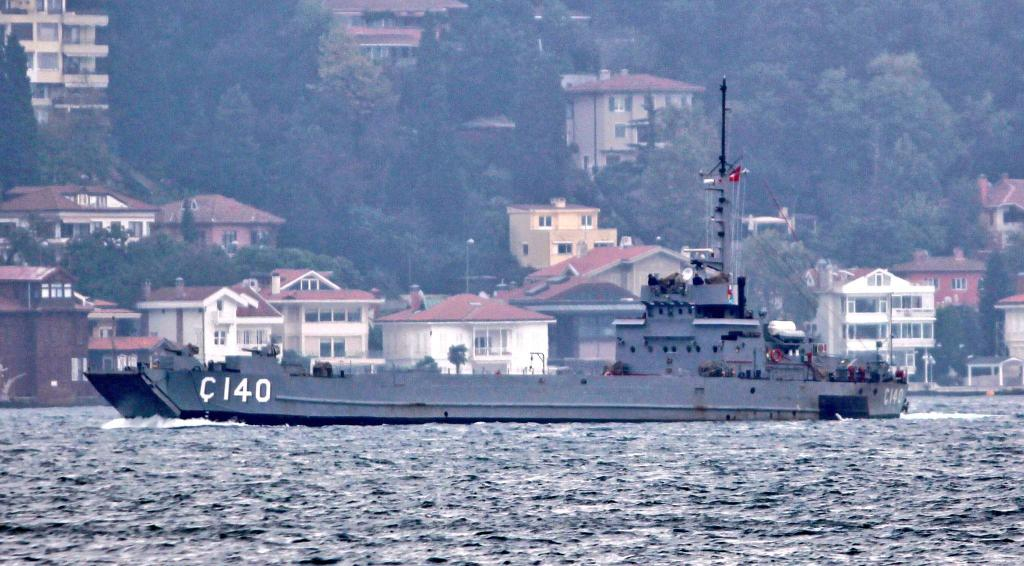Warship: (72, 72, 924, 426)
